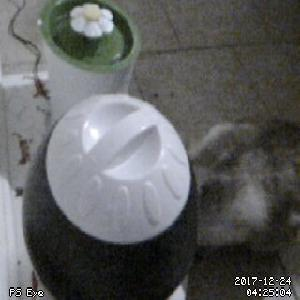cat: (183, 118, 300, 257)
fountain: (36, 1, 142, 73)
